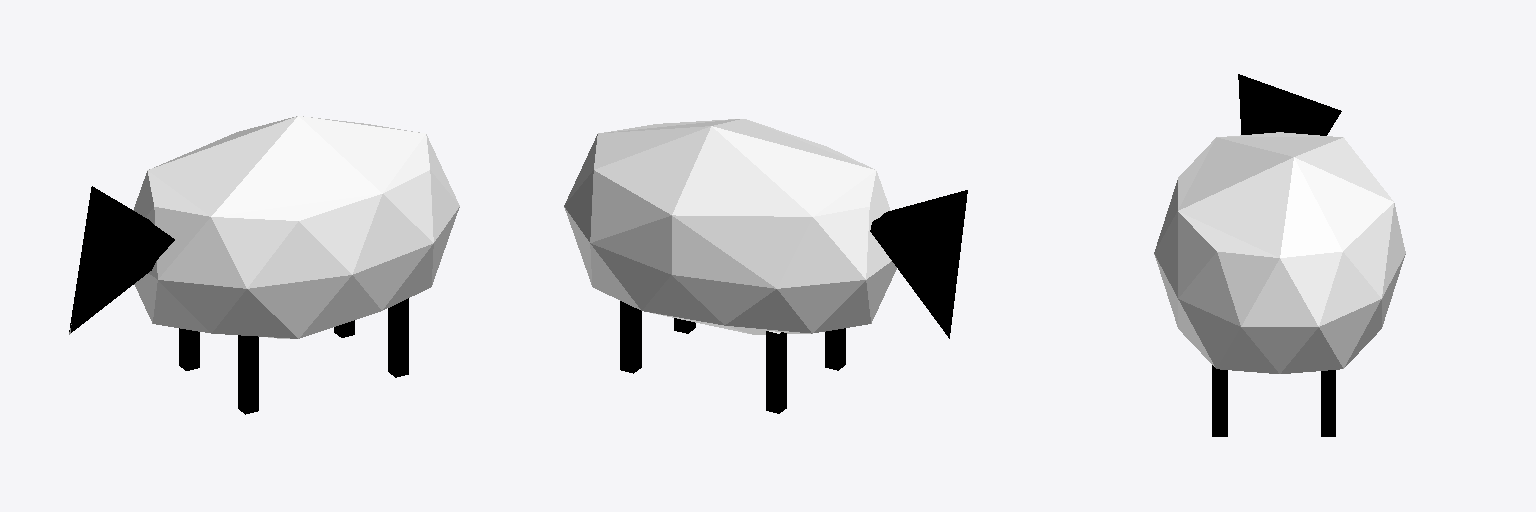
The picture shows the model from 3 angles: view 1: azimuth 30°, elevation 25°; view 2: azimuth 150°, elevation 25°; view 3: azimuth 270°, elevation 25°; orthographic projection.
Parts seen in each view (by area): view 1: Cube.002_Cube.000; view 2: Cube.002_Cube.000; view 3: Cube.002_Cube.000.
Boxes of the visible parts, box(x1,y1,x2,y2) form: Cube.002_Cube.000: box(69, 116, 459, 414); Cube.002_Cube.000: box(564, 119, 967, 413); Cube.002_Cube.000: box(1154, 74, 1405, 436).
Bounding box in the file's own units: 4.88 × 3.11 × 2.88.
Materials: 1 (1 with a texture image).